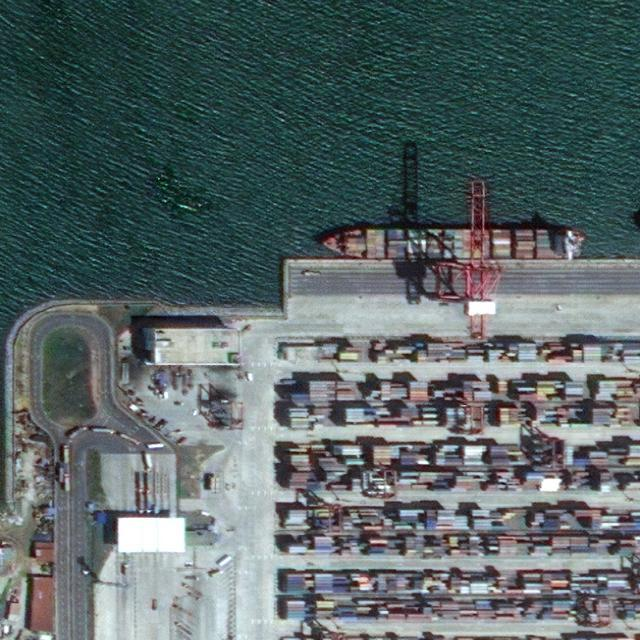Container Ship: (320, 225, 582, 259)
